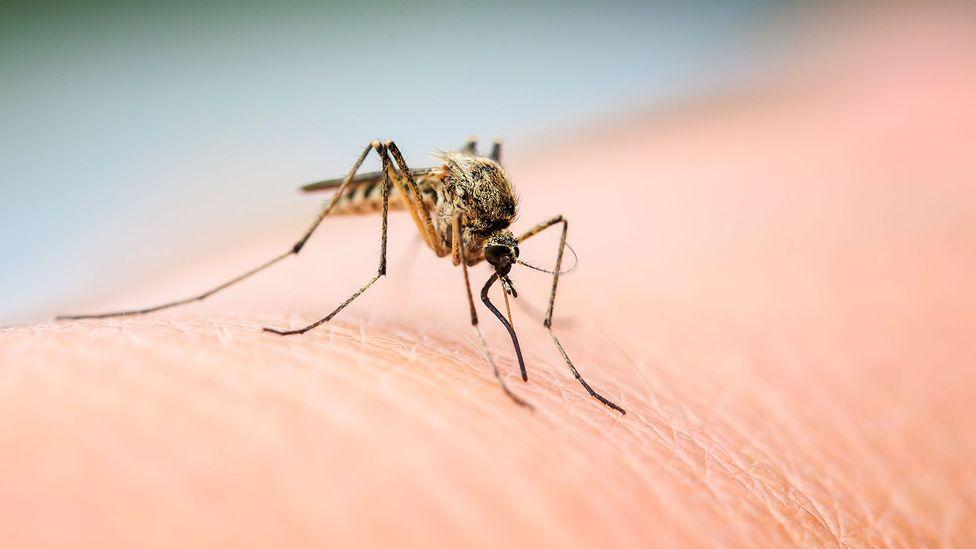insect: (46, 113, 645, 436)
